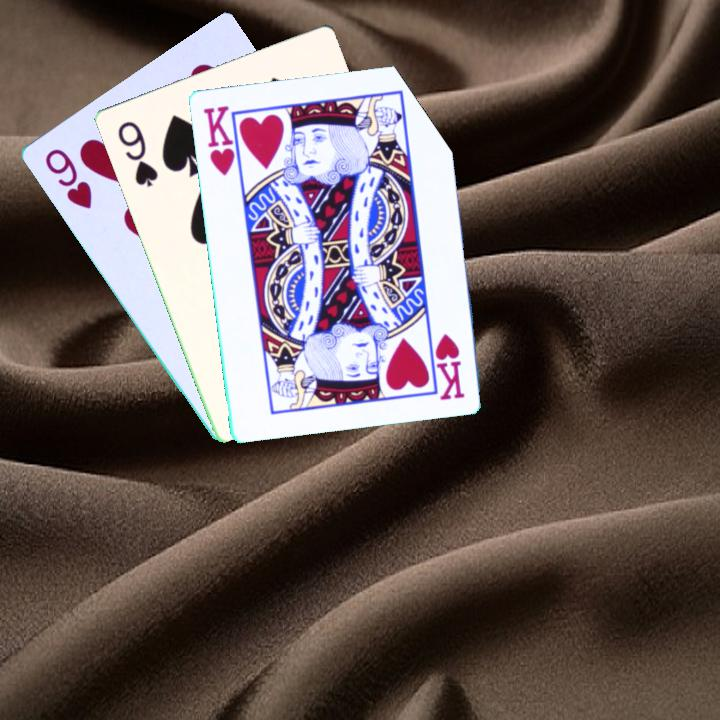9h: (40, 145, 95, 212)
9s: (113, 117, 161, 190)
Kh: (199, 101, 242, 179), (431, 330, 467, 403)
